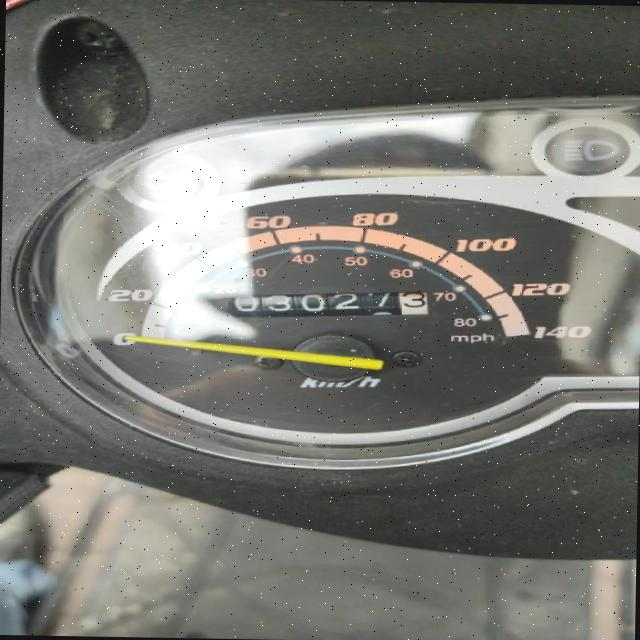odometer: (217, 285, 431, 322)
